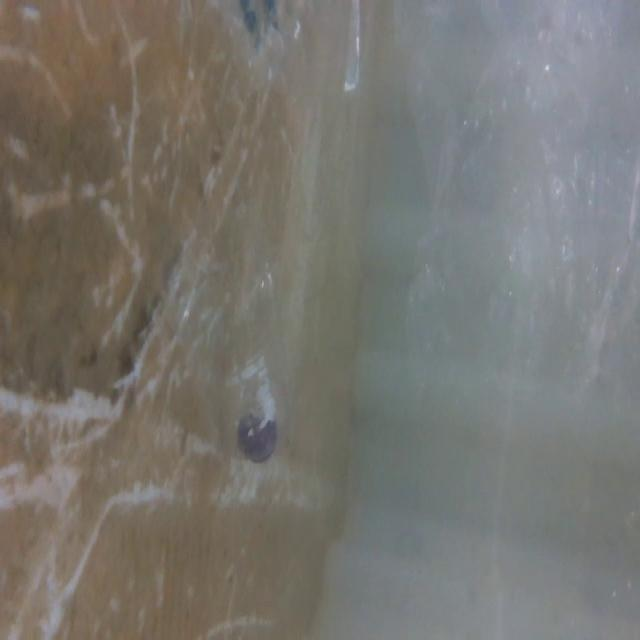plastic bags: (400, 0, 640, 423), (138, 0, 375, 111)
plastic bottle: (148, 187, 314, 479)
